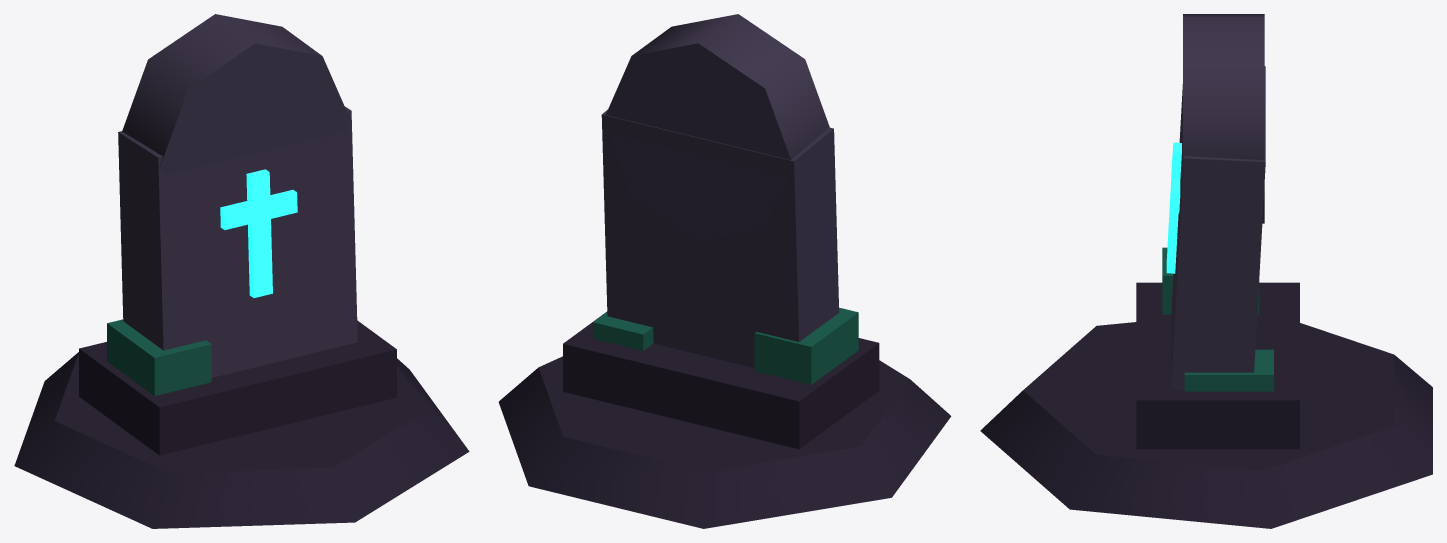
The model's file is prop_tombstone.glb.
3 renders of one model, left to right at view 1: azimuth 30°, elevation 25°; view 2: azimuth 150°, elevation 25°; view 3: azimuth 270°, elevation 25°, orthographic. The views are drawn at different scales.
Visible parts, largest first — view 1: slab_body, dirt_mound, slab_arch, plinth, moss_l, rune_v, rune_h; view 2: dirt_mound, slab_body, slab_arch, plinth, moss_l, moss_r; view 3: dirt_mound, slab_body, plinth, slab_arch, moss_r, rune_v, moss_l.
Boxes of the visible parts, box(x1,y1,x2,y2) form: slab_body: box(118, 106, 357, 377); dirt_mound: box(14, 352, 469, 528); slab_arch: box(122, 14, 350, 175); plinth: box(79, 320, 396, 455); moss_l: box(107, 319, 211, 395); rune_v: box(246, 169, 272, 297); rune_h: box(220, 189, 297, 229); dirt_mound: box(498, 356, 951, 528); slab_body: box(601, 109, 839, 367); slab_arch: box(606, 14, 829, 241); plinth: box(563, 311, 879, 449); moss_l: box(754, 307, 858, 384); moss_r: box(593, 312, 653, 350); dirt_mound: box(980, 322, 1432, 528); slab_body: box(1171, 66, 1265, 389); plinth: box(1136, 282, 1299, 449); slab_arch: box(1183, 14, 1264, 223); moss_r: box(1184, 349, 1273, 391); rune_v: box(1166, 142, 1181, 273); moss_l: box(1162, 247, 1259, 314).
Size of the model in its own units: 2.5 by 2.45 by 2.43.
